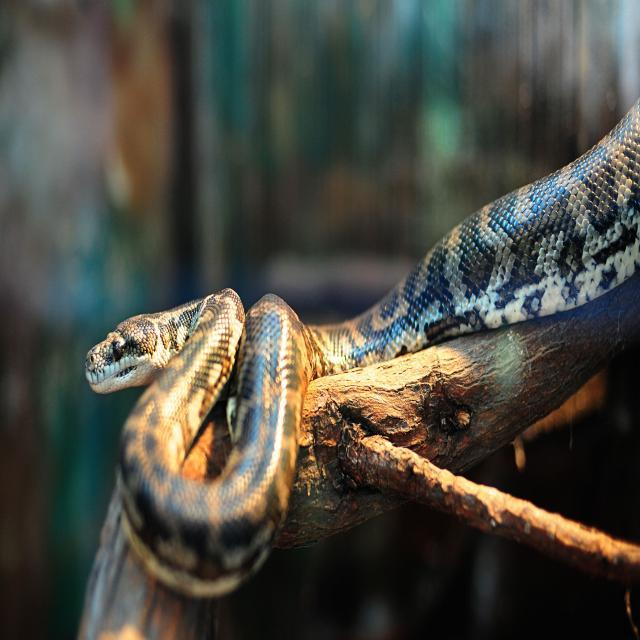Snake: (87, 91, 640, 607)
